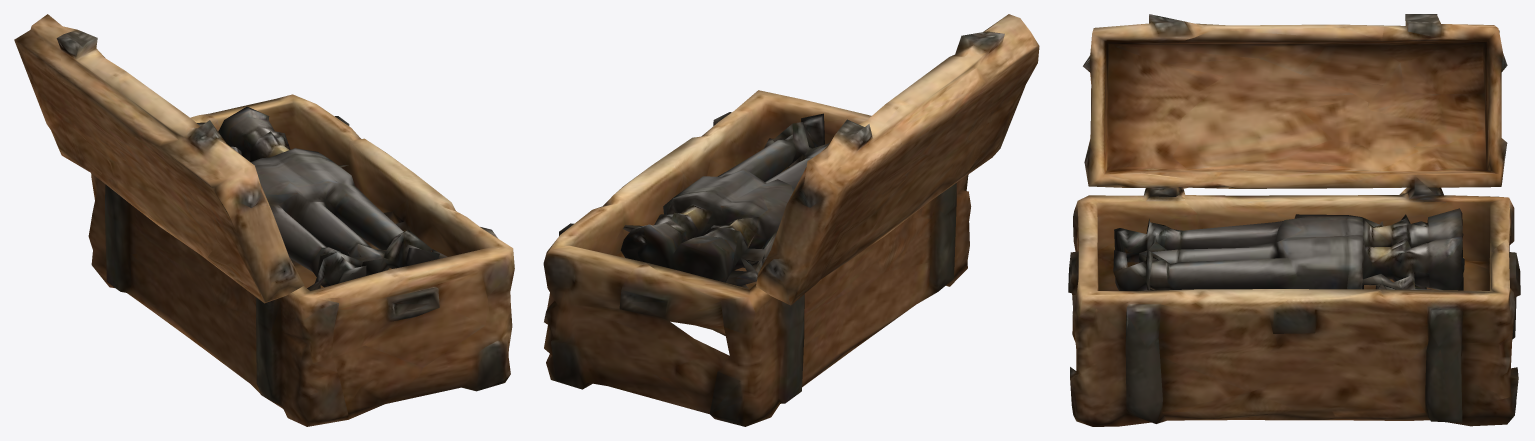
Rendered from am_cannon.glb.
3 views of the same model, side by side, from view 1: azimuth 30°, elevation 25°; view 2: azimuth 150°, elevation 25°; view 3: azimuth 270°, elevation 25° (orthographic).
Visible parts, largest first — view 1: tripo_node_9ea3bbdf-92f0-4a3c-ab62-4ace9a293773; view 2: tripo_node_9ea3bbdf-92f0-4a3c-ab62-4ace9a293773; view 3: tripo_node_9ea3bbdf-92f0-4a3c-ab62-4ace9a293773.
Part boxes in pixels (x1=…): tripo_node_9ea3bbdf-92f0-4a3c-ab62-4ace9a293773: x1=14, y1=14, x2=514, y2=426; tripo_node_9ea3bbdf-92f0-4a3c-ab62-4ace9a293773: x1=543, y1=14, x2=1039, y2=426; tripo_node_9ea3bbdf-92f0-4a3c-ab62-4ace9a293773: x1=1068, y1=14, x2=1520, y2=426.
Bounding box in the file's own units: 0.7716 × 0.6938 × 1.
Materials: 1 (1 with a texture image).
